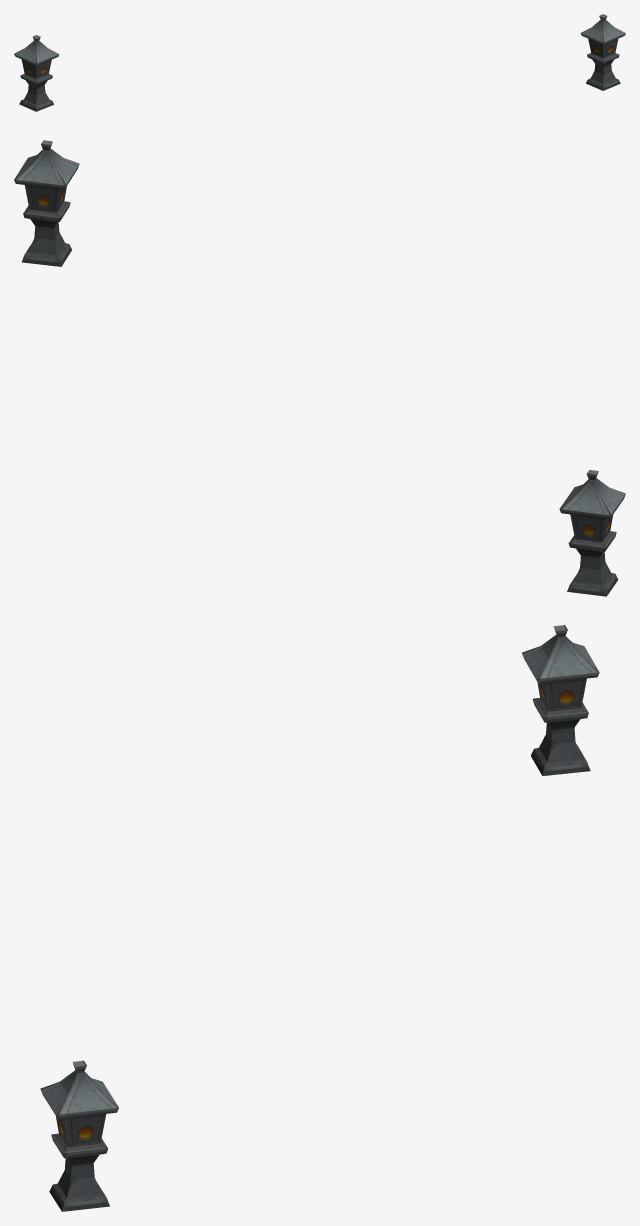
The model's file is Area_07_34.fbx.
3 views of the same model, one above another, from view 1: azimuth 30°, elevation 25°; view 2: azimuth 150°, elevation 25°; view 3: azimuth 270°, elevation 25° (orthographic). The views are drawn at different scales.
Parts seen in each view (by area): view 1: Area_07_34; view 2: Area_07_34; view 3: Area_07_34.
Part boxes in pixels (left/top/right/bottom): Area_07_34: left=14, top=14, right=625, bottom=111; Area_07_34: left=14, top=140, right=625, bottom=596; Area_07_34: left=40, top=625, right=599, bottom=1211.
Bounding box in the file's own units: 1673 × 226 × 844.
